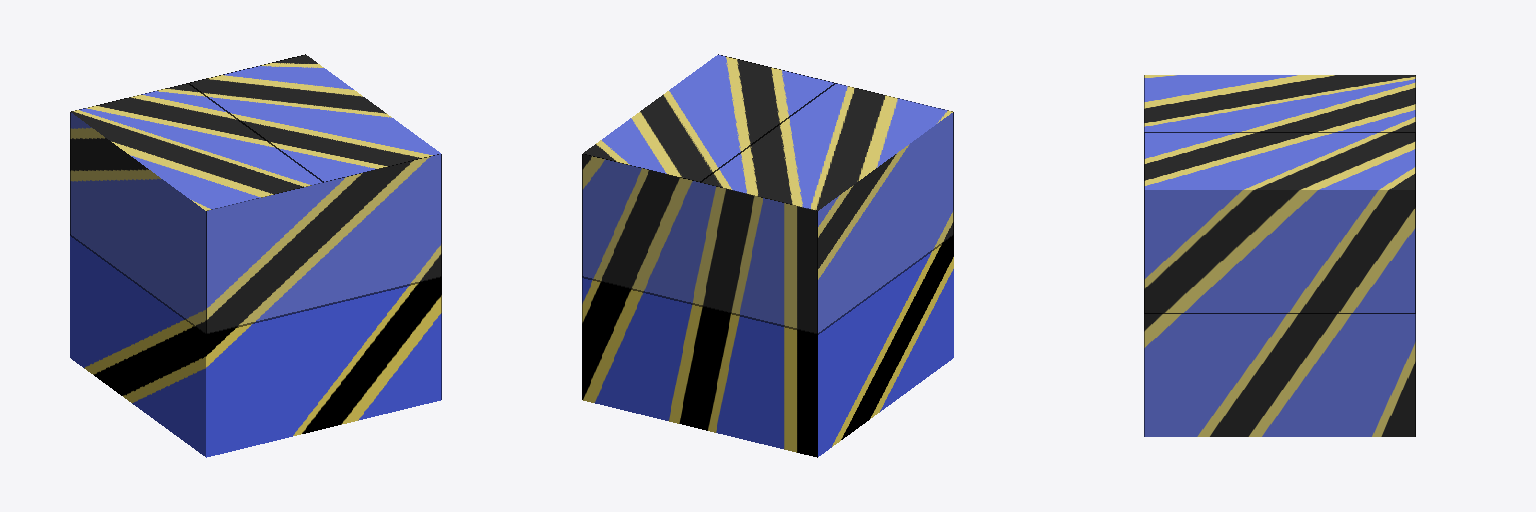
3 views of the same model, side by side, from view 1: azimuth 30°, elevation 25°; view 2: azimuth 150°, elevation 25°; view 3: azimuth 270°, elevation 25° (orthographic).
Visible parts, largest first — view 1: 立方体; view 2: 立方体; view 3: 立方体.
Boxes of the visible parts, x1,y1,x2,y2 form: 立方体: [70, 54, 441, 457]; 立方体: [582, 54, 953, 457]; 立方体: [1144, 75, 1415, 436].
Size of the model in its own units: 2 by 2 by 2.
Materials: 1 (1 with a texture image).